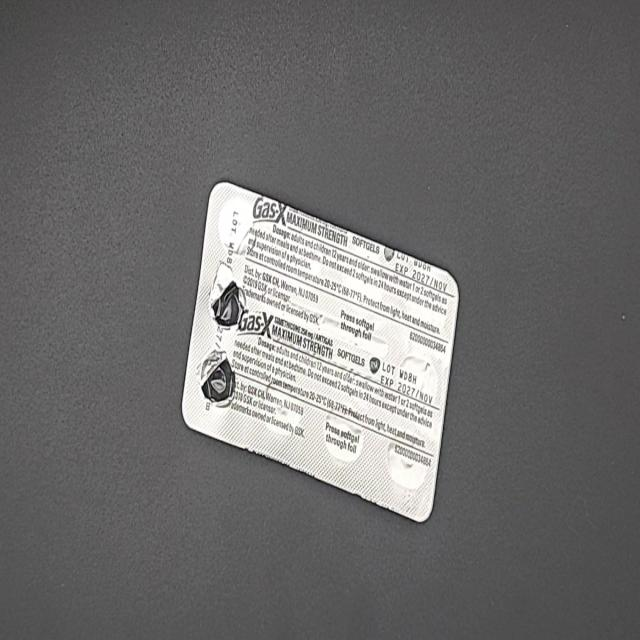defect: (207, 258, 247, 333), (194, 343, 236, 412)
